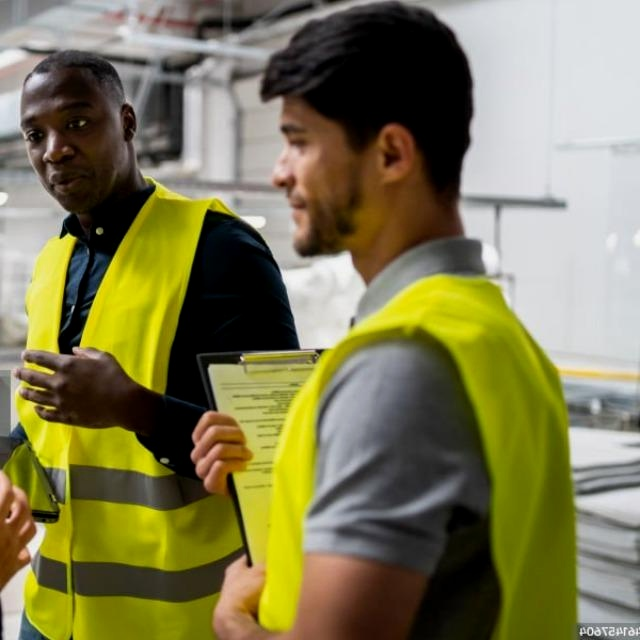Con_Chaleco: (248, 266, 580, 640), (0, 196, 243, 640)
Sin_Casco_Mascarrilla: (258, 2, 478, 262), (16, 47, 132, 213)
